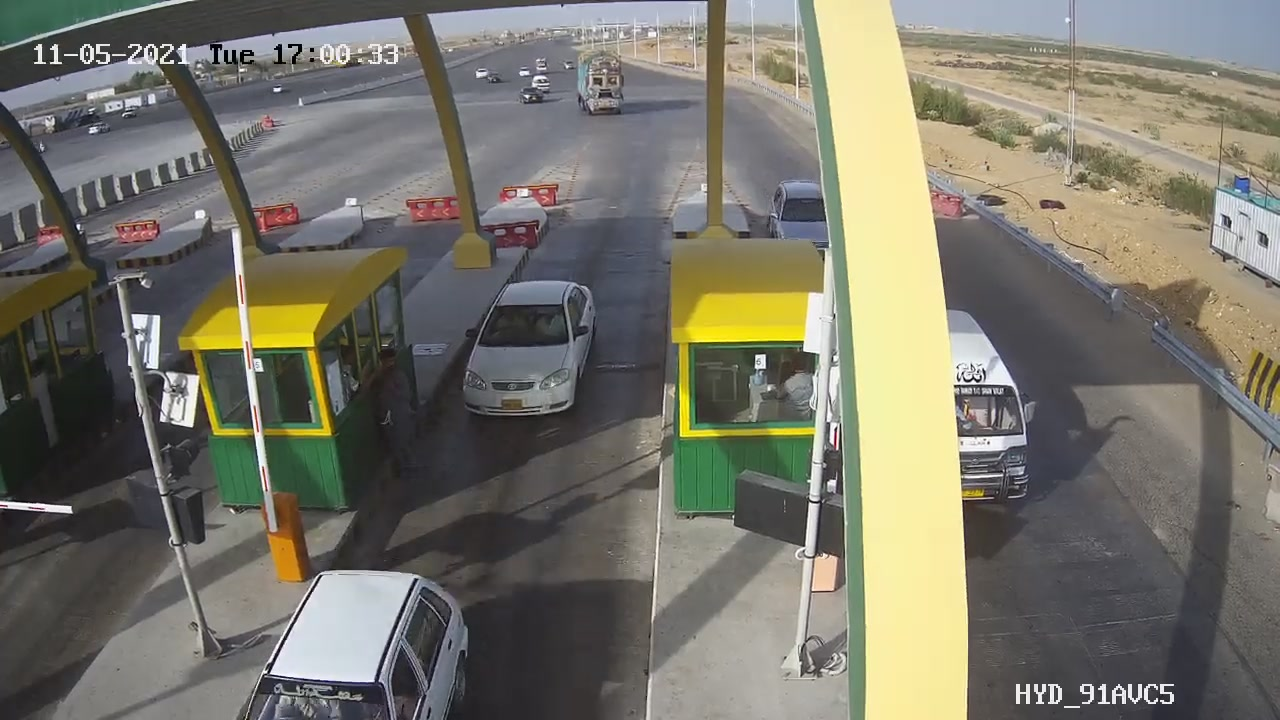F1: (442, 265, 622, 448)
